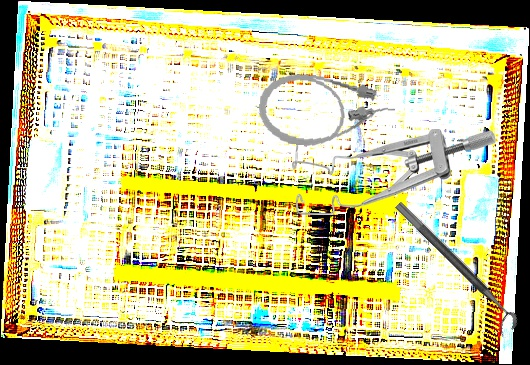Cannula: (255, 69, 398, 156)
Fixation Ring: (384, 200, 522, 339)
Speculum: (291, 129, 496, 215)
